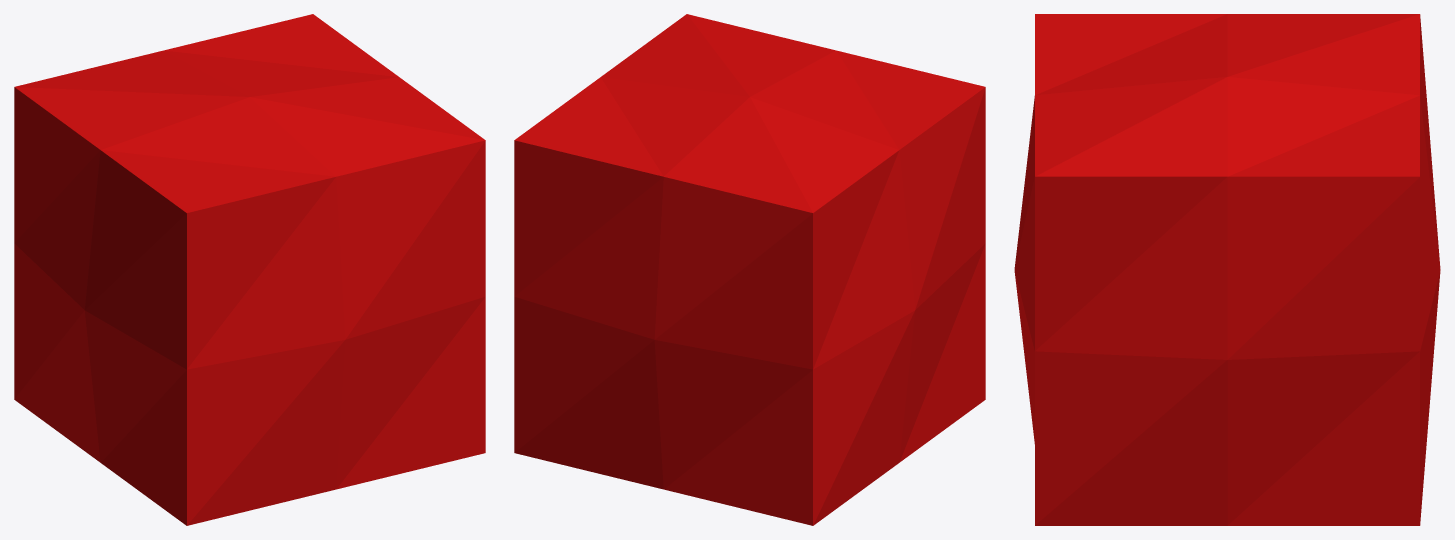
The model's file is 001_basinplot_basic-5.obj.
3 views of the same model, side by side, from view 1: azimuth 30°, elevation 25°; view 2: azimuth 150°, elevation 25°; view 3: azimuth 270°, elevation 25° (orthographic). The views are drawn at different scales.
Parts seen in each view (by area): view 1: surf_1; view 2: surf_1; view 3: surf_1.
Part boxes in pixels (box(x1,y1,x2,y2)): surf_1: box(14, 14, 485, 525); surf_1: box(514, 14, 985, 525); surf_1: box(1014, 14, 1440, 525).
Bounding box in the file's own units: 4.4 × 4.4 × 4.4.
